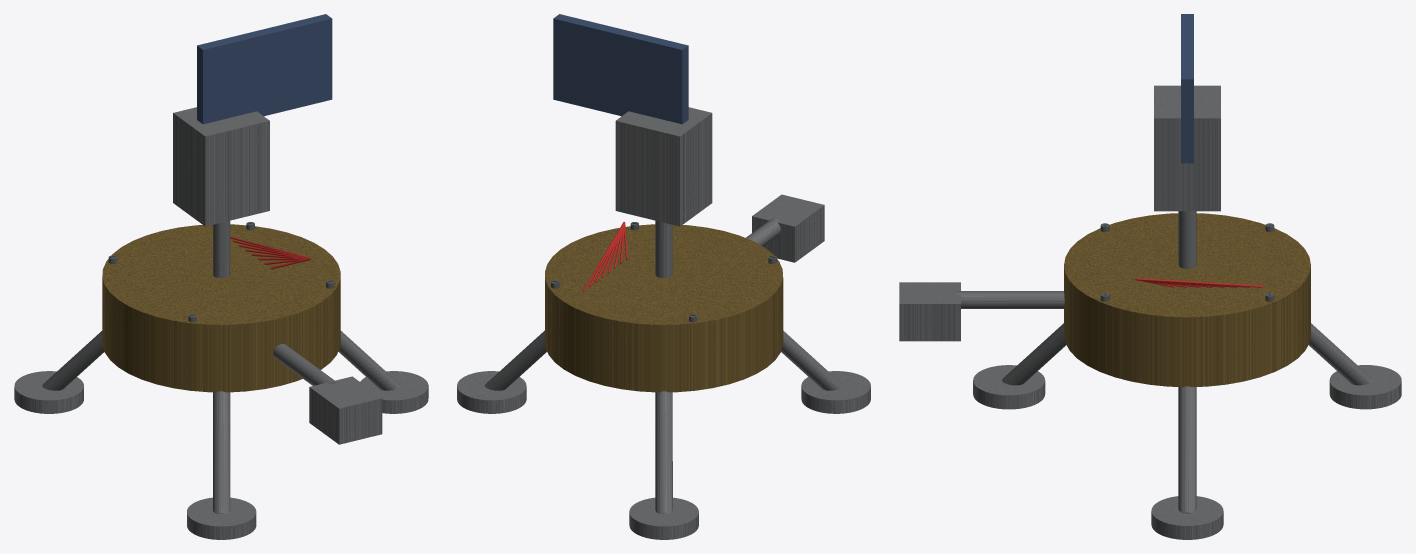
Rendered from surveyor-schematic.glb.
3 views of the same model, side by side, from view 1: azimuth 30°, elevation 25°; view 2: azimuth 150°, elevation 25°; view 3: azimuth 270°, elevation 25° (orthographic). The views are drawn at different scales.
Visible parts, largest first — view 1: body, solar, camera, foot (×3), landing-leg (×3), scoop, sampler, camera-mast; view 2: body, solar, camera, foot (×3), landing-leg (×3), scoop, camera-mast, sampler; view 3: body, camera, foot (×3), landing-leg (×3), scoop, solar, sampler, camera-mast.
Boxes of the visible parts, box(x1,y1,x2,y2) form: body: box(102, 224, 340, 392); solar: box(197, 14, 332, 124); camera: box(173, 107, 269, 226); foot (×3): box(14, 371, 428, 539); landing-leg (×3): box(42, 331, 400, 513); scoop: box(309, 376, 382, 444); sampler: box(273, 344, 336, 385); camera-mast: box(213, 118, 230, 278); body: box(545, 224, 783, 392); solar: box(553, 14, 688, 124); camera: box(615, 107, 712, 226); foot (×3): box(457, 371, 870, 539); landing-leg (×3): box(485, 330, 842, 513); scoop: box(752, 194, 824, 262); camera-mast: box(655, 118, 672, 278); sampler: box(746, 218, 780, 246); body: box(1064, 213, 1310, 387); camera: box(1154, 85, 1220, 211); foot (×3): box(973, 365, 1401, 539); landing-leg (×3): box(1002, 323, 1372, 513); scoop: box(899, 282, 960, 341); solar: box(1181, 14, 1193, 163); sampler: box(956, 291, 1064, 308); camera-mast: box(1178, 101, 1196, 268).
Bounding box in the file's own units: 1.48 × 1.77 × 1.95.
8 materials, 3 textured.
